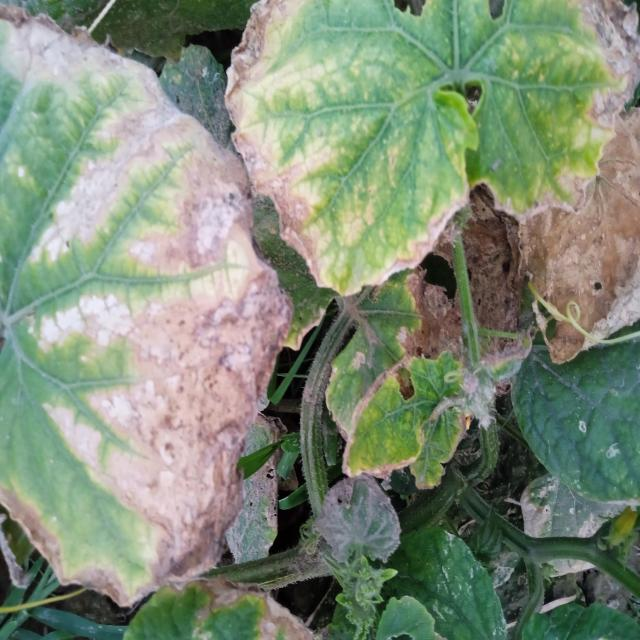cucumber_gummy: (0, 0, 301, 609), (214, 0, 635, 298), (339, 151, 542, 500), (487, 75, 640, 396), (94, 573, 339, 640), (521, 468, 640, 592), (213, 398, 286, 574), (304, 466, 407, 578), (154, 32, 232, 147)
